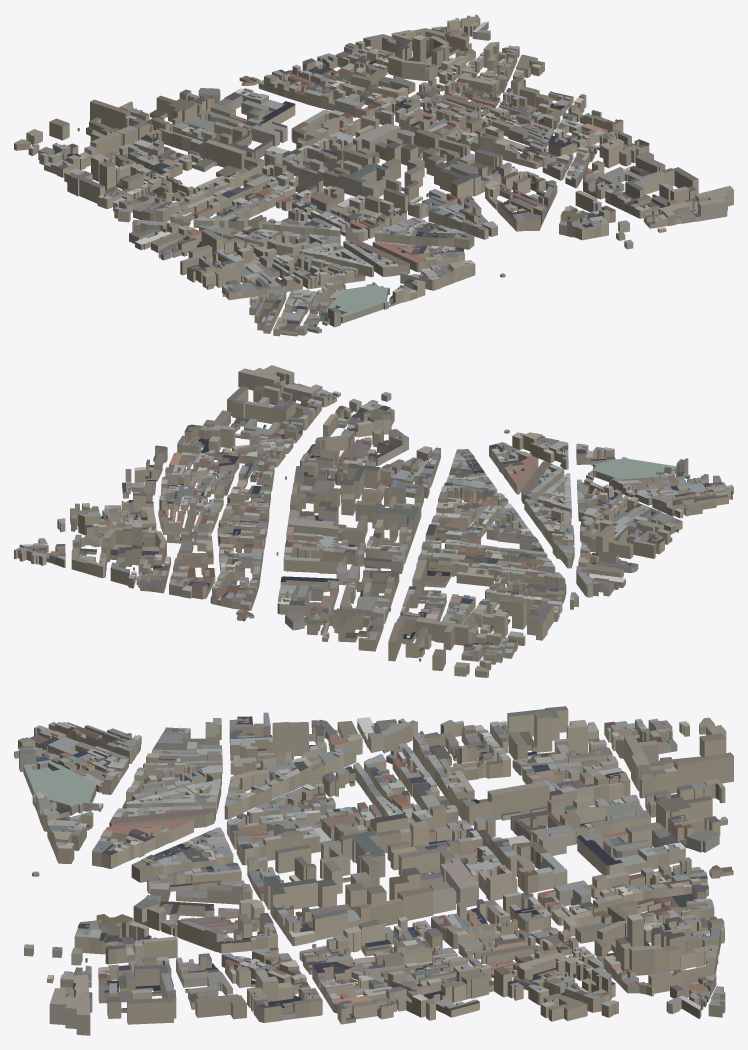
3 views of the same model, one above another, from view 1: azimuth 30°, elevation 25°; view 2: azimuth 150°, elevation 25°; view 3: azimuth 270°, elevation 25° (orthographic). The views are drawn at different scales.
Parts seen in each view (by area): view 1: tuile; view 2: tuile; view 3: tuile.
Part boxes in pixels (x1=…): tuile: x1=14, y1=14, x2=733, y2=336; tuile: x1=14, y1=365, x2=733, y2=677; tuile: x1=14, y1=706, x2=733, y2=1035.
Size of the model in its own units: 1069 by 95.37 by 1027.
